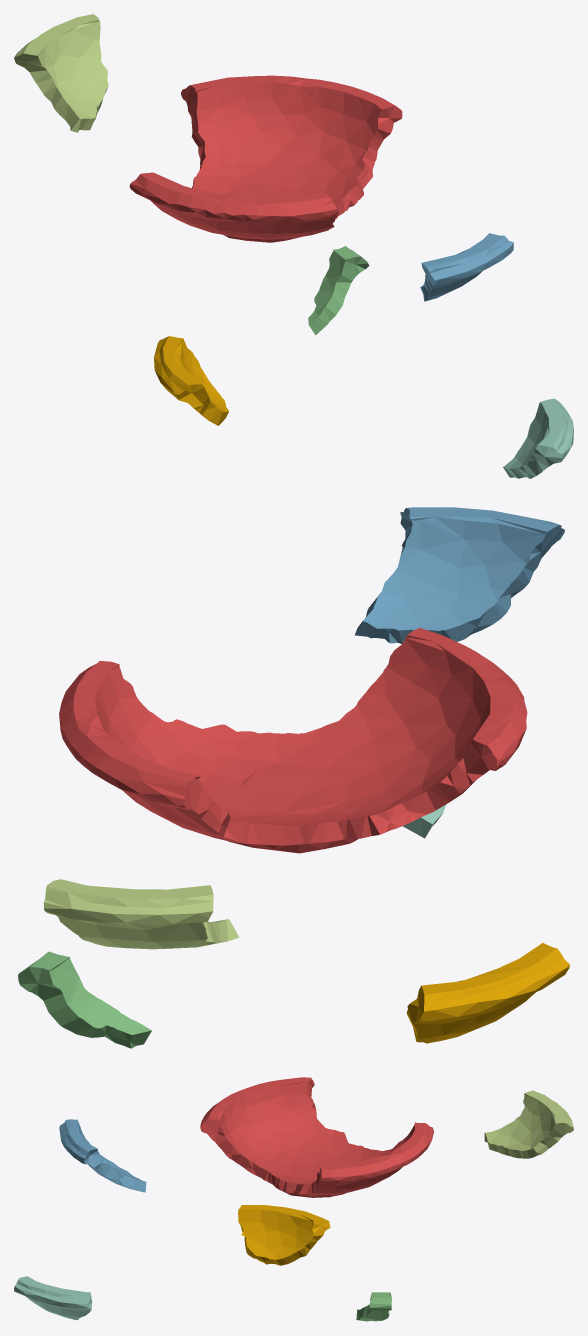
Rendered from fractured_14_6pcs_transformed.glb.
3 views of the same model, one above another, from view 1: azimuth 30°, elevation 25°; view 2: azimuth 150°, elevation 25°; view 3: azimuth 270°, elevation 25° (orthographic). The views are drawn at different scales.
Visible parts, largest first — view 1: piece_1.obj, piece_5.obj, piece_0.obj, piece_4.obj, piece_2.obj, piece_3.obj; view 2: piece_1.obj, piece_2.obj, piece_5.obj, piece_0.obj, piece_3.obj; view 3: piece_1.obj, piece_0.obj, piece_5.obj, piece_2.obj, piece_4.obj, piece_3.obj.
Boxes of the visible parts, box(x1,y1,x2,y2) form: piece_1.obj: box(129, 75, 402, 242); piece_5.obj: box(14, 14, 108, 132); piece_0.obj: box(154, 336, 228, 425); piece_4.obj: box(503, 398, 573, 478); piece_2.obj: box(420, 233, 513, 301); piece_3.obj: box(308, 246, 369, 335); piece_1.obj: box(59, 628, 527, 853); piece_2.obj: box(355, 507, 564, 643); piece_5.obj: box(43, 879, 239, 949); piece_0.obj: box(406, 943, 569, 1043); piece_3.obj: box(18, 951, 151, 1048); piece_1.obj: box(200, 1077, 433, 1197); piece_0.obj: box(238, 1205, 330, 1265); piece_5.obj: box(484, 1090, 573, 1158); piece_2.obj: box(59, 1119, 146, 1192); piece_4.obj: box(14, 1276, 92, 1320); piece_3.obj: box(356, 1292, 391, 1321).
Size of the model in its own units: 0.9973 by 0.8006 by 2.39.
